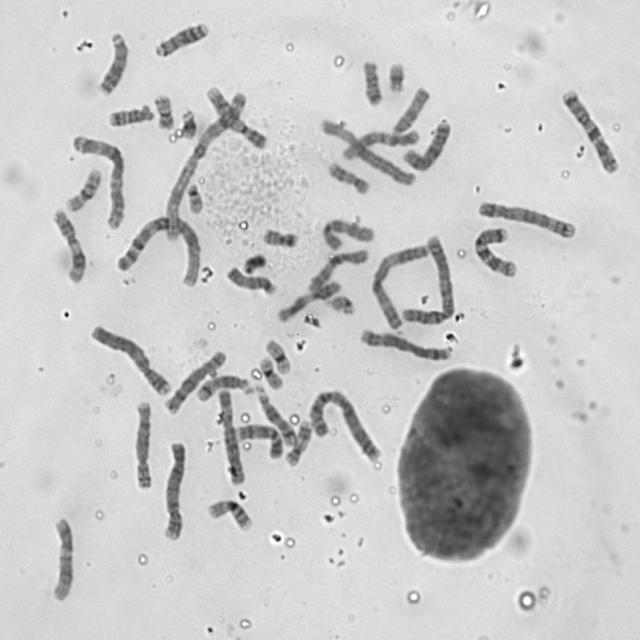A1: (157, 85, 250, 242), (113, 209, 204, 289)
A2: (306, 385, 384, 463), (398, 231, 457, 326)
A3: (70, 129, 130, 231), (367, 239, 431, 332)
B4: (87, 318, 174, 398), (159, 436, 190, 542)
B5: (474, 195, 578, 240), (356, 323, 456, 363)
C10: (304, 245, 371, 292), (318, 213, 377, 252)
C11: (274, 275, 344, 323), (48, 203, 88, 284)
C12: (338, 125, 422, 162), (46, 512, 76, 602)
C6: (316, 115, 418, 187), (215, 385, 247, 486)
C7: (558, 84, 622, 176), (470, 223, 520, 279)
C8: (162, 346, 231, 416), (130, 396, 155, 491)
C9: (202, 82, 270, 150), (231, 419, 285, 461)
D13: (93, 26, 131, 96), (151, 16, 211, 59)
D14: (252, 380, 299, 448), (193, 370, 255, 403)
D15: (388, 82, 432, 136), (224, 262, 279, 298)
E16: (63, 164, 104, 213), (204, 493, 254, 532)
E17: (324, 157, 372, 196), (282, 415, 313, 468)
E18: (358, 54, 385, 108), (105, 100, 156, 128)
F19: (262, 335, 293, 376), (256, 353, 285, 391)
F20: (151, 88, 177, 131), (258, 224, 300, 249)
G21: (384, 57, 407, 94), (177, 104, 200, 140)
G22: (182, 178, 205, 215), (326, 291, 356, 316)
X: (398, 114, 454, 173)
Y: (240, 249, 268, 275)
